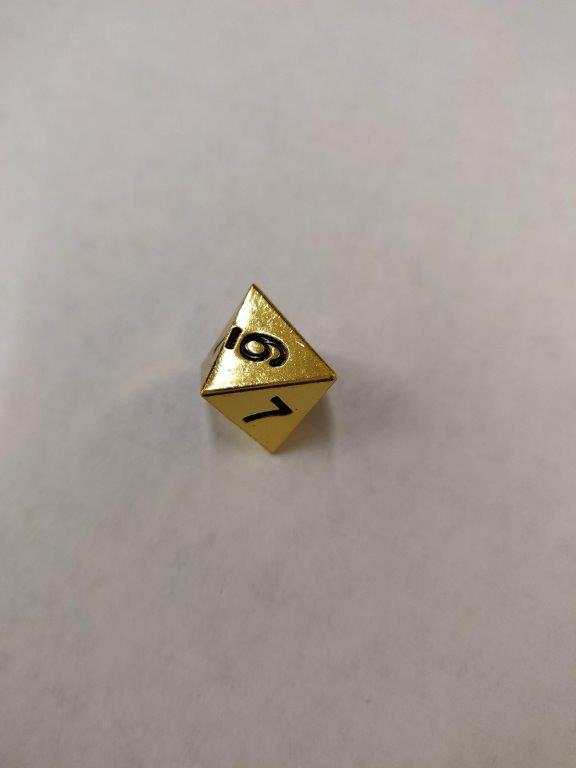d8-6: (197, 282, 339, 459)
